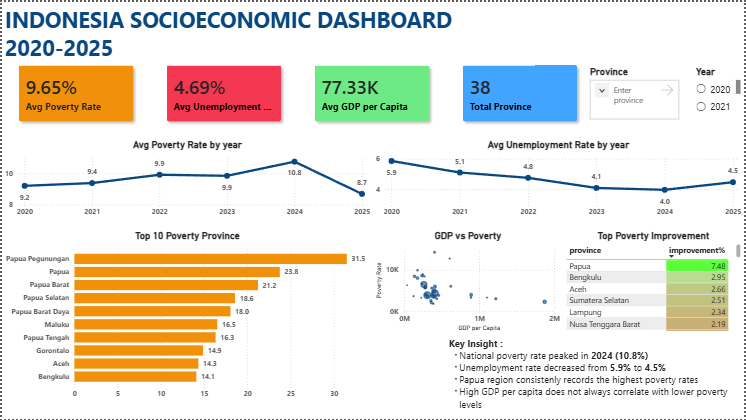

This screenshot's page, from the dashboard's own definition file:
{"tool":"powerbi","page":{"name":"Page 1","canvas":[1280,720],"ordinal":0},"visuals":[{"type":"cardVisual","title":"Avg Poverty Rate","fields":{"Data":["indonesia_socioeconomic_dashboard (2).Avg Poverty Rate2"]},"box":[0,79.4,255.3,157],"z":0},{"type":"cardVisual","fields":{"Data":["indonesia_socioeconomic_dashboard (2).Avg Unemployment Rate2"]},"box":[255.3,79.4,255.3,157],"z":1000},{"type":"cardVisual","fields":{"Data":["indonesia_socioeconomic_dashboard (2).Avg GDP per Capita"]},"box":[510.6,79.4,255.3,157],"z":2000},{"type":"cardVisual","fields":{"Data":["indonesia_socioeconomic_dashboard (2).Total Province"]},"box":[765.9,79.4,255.3,157],"z":3000},{"type":"lineChart","title":"Avg Poverty Rate by year","fields":{"Category":["indonesia_socioeconomic_dashboard (2).year"],"Y":["indonesia_socioeconomic_dashboard (2).Avg Poverty Rate"]},"box":[0,236.3,640,143.2],"z":4000},{"type":"lineChart","title":"Avg Unemployment Rate by year","fields":{"Category":["indonesia_socioeconomic_dashboard (2).year"],"Y":["indonesia_socioeconomic_dashboard (2).Avg Unemployment Rate"]},"box":[640,236.3,640,143.2],"z":5000},{"type":"clusteredBarChart","title":"Top 10 Poverty Province","fields":{"Category":["indonesia_socioeconomic_dashboard (2).province"],"Y":["indonesia_socioeconomic_dashboard (2).Avg Poverty Rate"]},"box":[0,393.3,640,300.2],"z":6000},{"type":"scatterChart","title":"GDP vs Poverty","fields":{"X":["Sum(indonesia_socioeconomic_dashboard (2).gdp_per_capita)"],"Y":["Sum(indonesia_socioeconomic_dashboard (2).poverty_rate)"],"Size":["Sum(indonesia_socioeconomic_dashboard (2).population)"],"Category":["indonesia_socioeconomic_dashboard (2).province"]},"box":[640,393.3,327.8,179.4],"z":7000},{"type":"tableEx","title":"Top Poverty Improvement ","fields":{"Values":["indonesia_socioeconomic_dashboard (2).province","poverty 2020-2025.improvement%"]},"box":[967.8,393.3,312.2,179.4],"z":8000},{"type":"textSlicer","title":"Province","fields":{"Values":["indonesia_socioeconomic_dashboard (2).province"]},"box":[1009.2,110.4,163.9,96.6],"z":9000},{"type":"listSlicer","title":"Year","fields":{"Values":["indonesia_socioeconomic_dashboard (2).year"]},"box":[1192,110.4,88,96.6],"z":10000},{"type":"textbox","box":[0,0,919.5,110.4],"z":11000},{"type":"textbox","box":[765.9,572.7,514.1,146.6],"z":12000}]}

Visuals, with their boxes in screenshot pixels (x1, y1, x2, y2), scaled from the page's 1280x720 canvas onto the 746x420 screenshot:
"Avg Poverty Rate" cardVisual: [x1=0, y1=46, x2=149, y2=138]
cardVisual - indonesia_socioeconomic_dashboard (2).Avg Unemployment Rate2: [x1=149, y1=46, x2=298, y2=138]
cardVisual - indonesia_socioeconomic_dashboard (2).Avg GDP per Capita: [x1=298, y1=46, x2=446, y2=138]
cardVisual - indonesia_socioeconomic_dashboard (2).Total Province: [x1=446, y1=46, x2=595, y2=138]
"Avg Poverty Rate by year" lineChart: [x1=0, y1=138, x2=373, y2=221]
"Avg Unemployment Rate by year" lineChart: [x1=373, y1=138, x2=745, y2=221]
"Top 10 Poverty Province" clusteredBarChart: [x1=0, y1=229, x2=373, y2=405]
"GDP vs Poverty" scatterChart: [x1=373, y1=229, x2=564, y2=334]
"Top Poverty Improvement " tableEx: [x1=564, y1=229, x2=745, y2=334]
"Province" textSlicer: [x1=588, y1=64, x2=684, y2=121]
"Year" listSlicer: [x1=695, y1=64, x2=745, y2=121]
textbox: [x1=0, y1=0, x2=536, y2=64]
textbox: [x1=446, y1=334, x2=745, y2=419]
